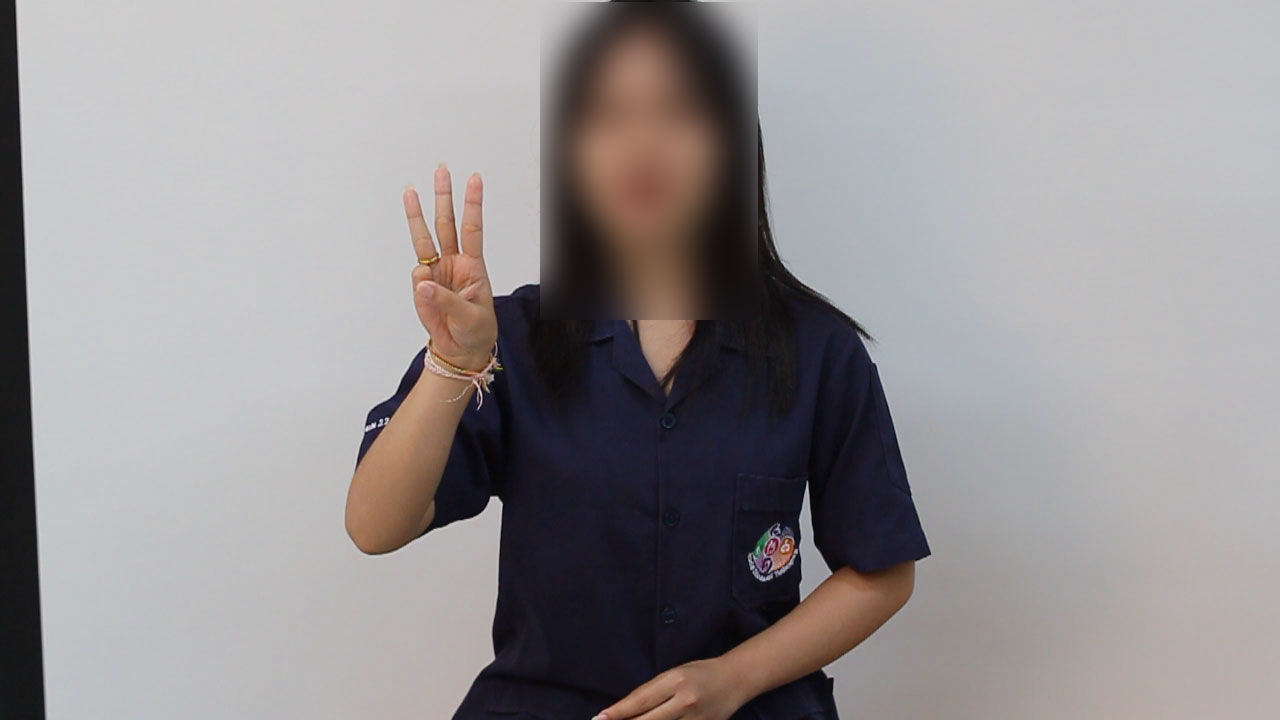wor: (396, 153, 509, 376)
